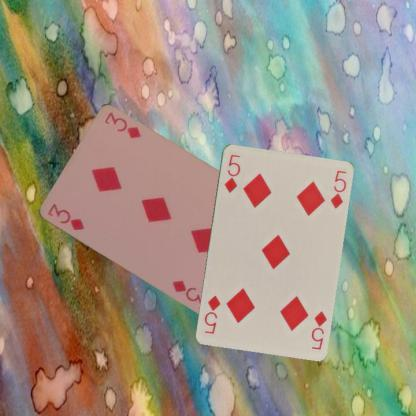3d: (44, 200, 86, 232)
5d: (221, 152, 242, 194), (308, 308, 327, 351)
